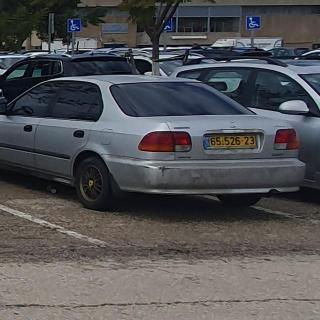LicensePlate: (210, 136, 256, 147)
